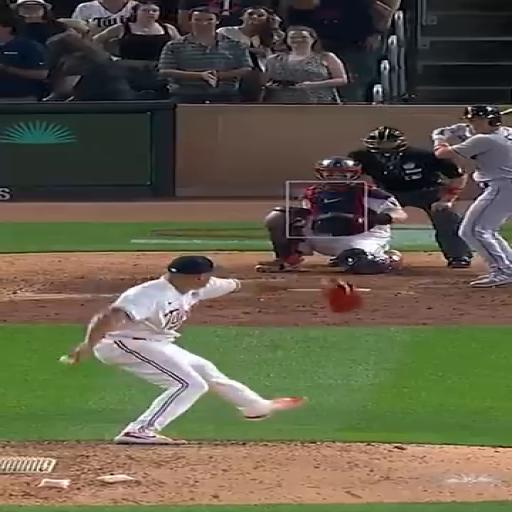bat: (499, 107, 511, 119)
